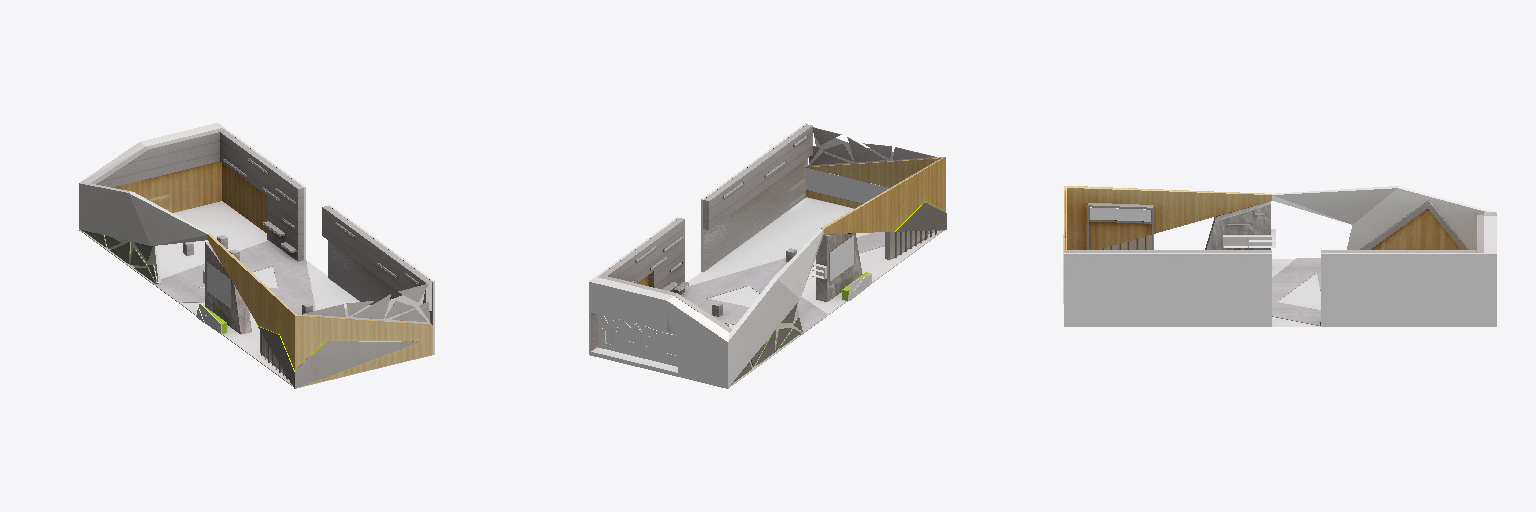
3 views of the same model, side by side, from view 1: azimuth 30°, elevation 25°; view 2: azimuth 150°, elevation 25°; view 3: azimuth 270°, elevation 25° (orthographic).
Visible parts, largest first — view 1: Box001; view 2: Box001; view 3: Box001.
Boxes of the visible parts, x1=… form: Box001: x1=79, y1=123, x2=434, y2=388; Box001: x1=589, y1=123, x2=946, y2=388; Box001: x1=1063, y1=186, x2=1496, y2=326.
Size of the model in its own units: 10141 by 5063 by 27054.
Materials: 1 (1 with a texture image).